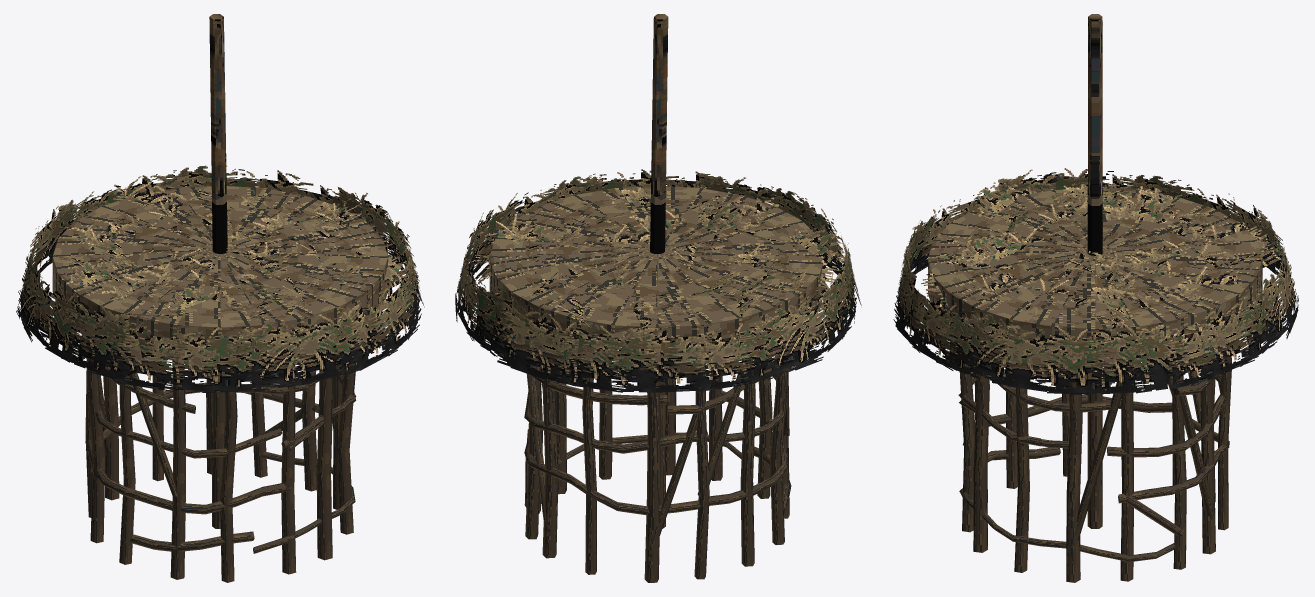
The model's file is cage-pole.glb.
3 renders of one model, left to right at view 1: azimuth 30°, elevation 25°; view 2: azimuth 150°, elevation 25°; view 3: azimuth 270°, elevation 25°, orthographic.
Parts seen in each view (by area): view 1: cage-pole-212-16; view 2: cage-pole-212-16; view 3: cage-pole-212-16.
Boxes of the visible parts, x1,y1,x2,y2 form: cage-pole-212-16: [16, 14, 424, 582]; cage-pole-212-16: [455, 14, 861, 582]; cage-pole-212-16: [893, 14, 1298, 582].
Bounding box in the file's own units: 3.17 × 4.36 × 3.18.
Materials: 3 (3 with a texture image).
